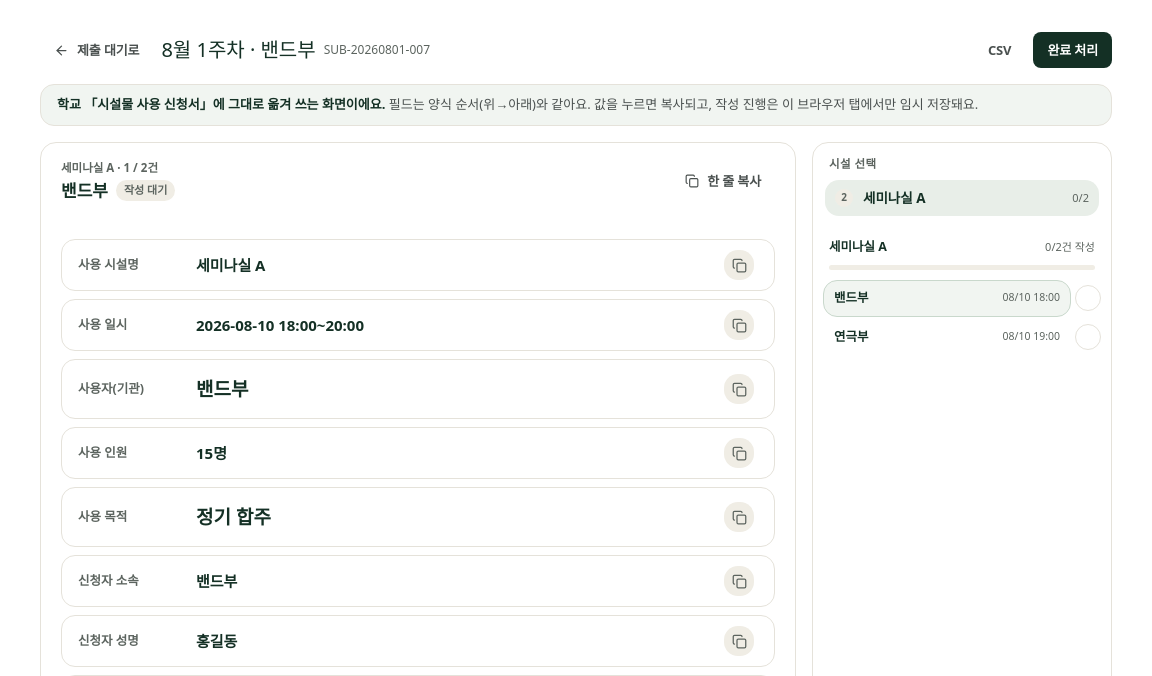
Test case: TranscribeCockpitPage › 현재 시설의 다른 건을 우측 리스트에서 선택해 이동한다
Click the button "연극부 08/10 19:00": (947, 337) [823,318,1071,355]
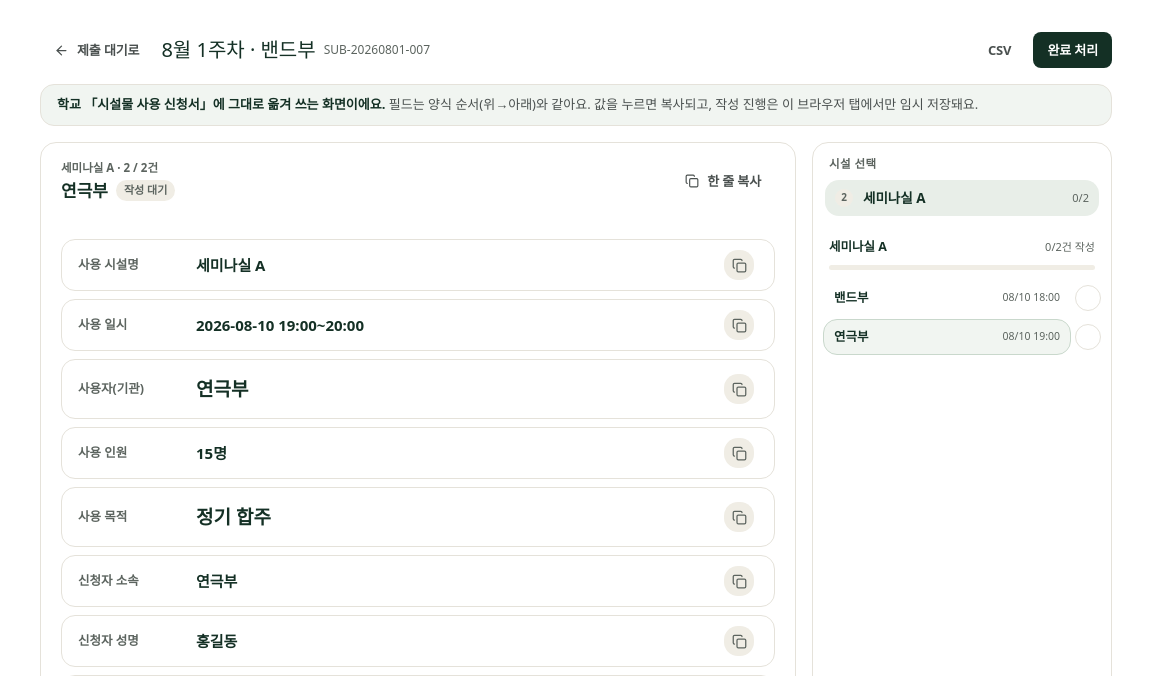
expect the text "세미나실 A · 2 / 2건" is shown: met, box [61,160,158,174]
